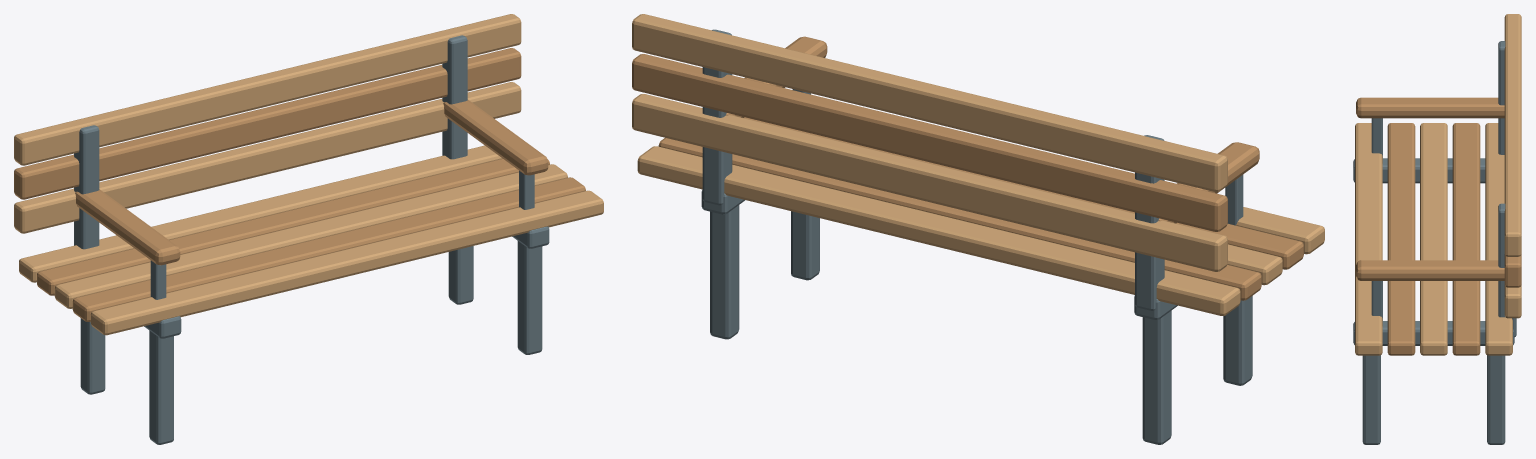
The model's file is SIMUS_Bench.glb.
3 renders of one model, left to right at view 1: azimuth 30°, elevation 25°; view 2: azimuth 150°, elevation 25°; view 3: azimuth 270°, elevation 25°, orthographic. The views are drawn at different scales.
Parts seen in each view (by area): view 1: Bench Light wood, Bench Honey wood, Bench SIMUS charcoal; view 2: Bench Light wood, Bench Honey wood, Bench SIMUS charcoal; view 3: Bench Light wood, Bench Honey wood, Bench SIMUS charcoal.
Boxes of the visible parts, x1,y1,x2,y2 form: Bench Light wood: (14,14,603,335); Bench Honey wood: (14,48,585,321); Bench SIMUS charcoal: (74,35,549,444); Bench Light wood: (632,14,1324,315); Bench Honey wood: (632,36,1303,300); Bench SIMUS charcoal: (701,29,1252,444); Bench Light wood: (1355,14,1521,355); Bench Honey wood: (1356,97,1521,355); Bench SIMUS charcoal: (1353,41,1516,444).
Bounding box in the file's own units: 1.85 × 0.9275 × 0.595.
